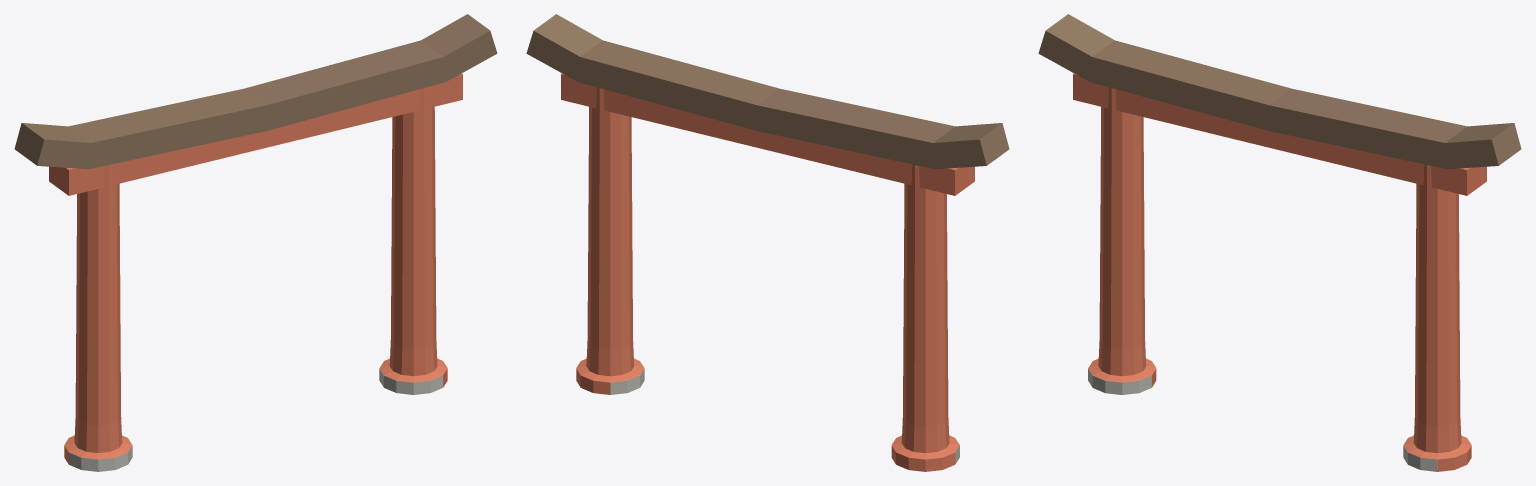
Rendered from torii-gate.glb.
3 views of the same model, side by side, from view 1: azimuth 30°, elevation 25°; view 2: azimuth 150°, elevation 25°; view 3: azimuth 330°, elevation 25° (orthographic).
Parts seen in each view (by area): view 1: torii-gate; view 2: torii-gate; view 3: torii-gate.
Boxes of the visible parts, bbox=[...] form: torii-gate: bbox=[14, 14, 497, 471]; torii-gate: bbox=[526, 14, 1009, 471]; torii-gate: bbox=[1038, 14, 1521, 471].
Size of the model in its own units: 4.67 by 3.32 by 0.6018.
